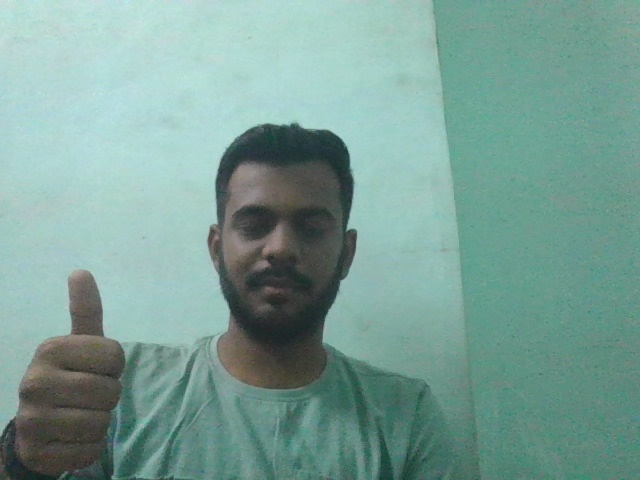yes: (13, 270, 155, 480)
